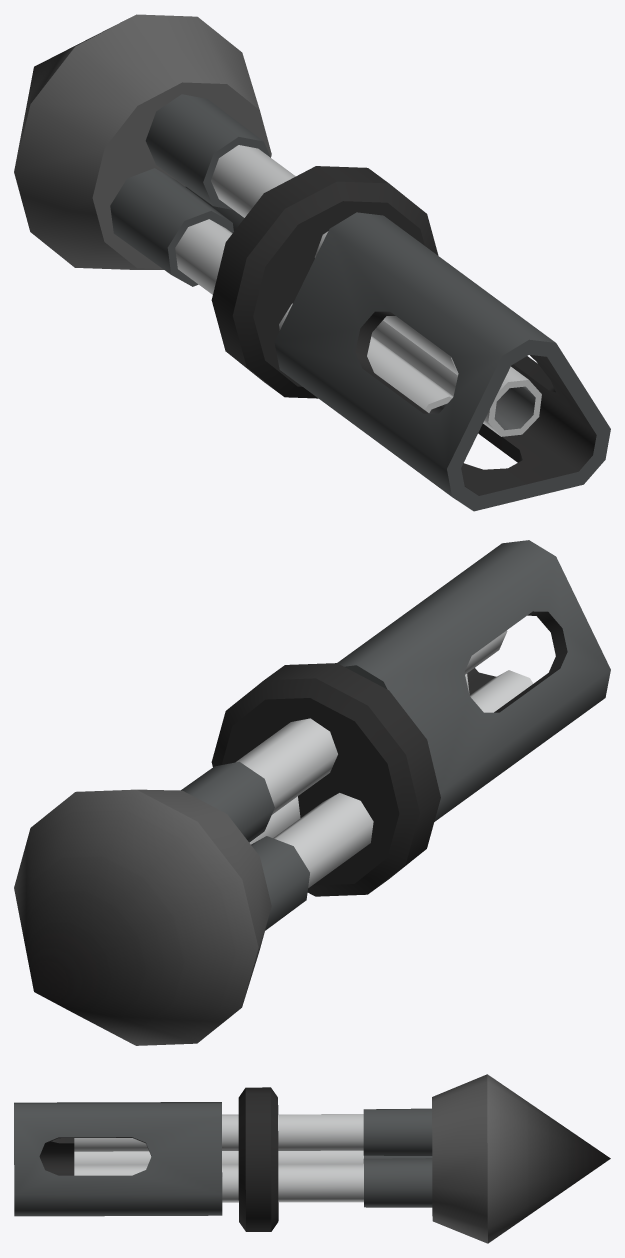
File: Turret_001_Gun_02.fbx
3 views of the same model, one above another, from view 1: azimuth 30°, elevation 25°; view 2: azimuth 150°, elevation 25°; view 3: azimuth 270°, elevation 25° (orthographic). The views are drawn at different scales.
Visible parts, largest first — view 1: Turret_001_Gun_02; view 2: Turret_001_Gun_02; view 3: Turret_001_Gun_02.
Boxes of the visible parts, left/top/right/bottom form: Turret_001_Gun_02: left=14, top=14, right=610, bottom=511; Turret_001_Gun_02: left=14, top=540, right=610, bottom=1045; Turret_001_Gun_02: left=14, top=1074, right=610, bottom=1243.
Size of the model in its own units: 40.78 by 143 by 40.78.
